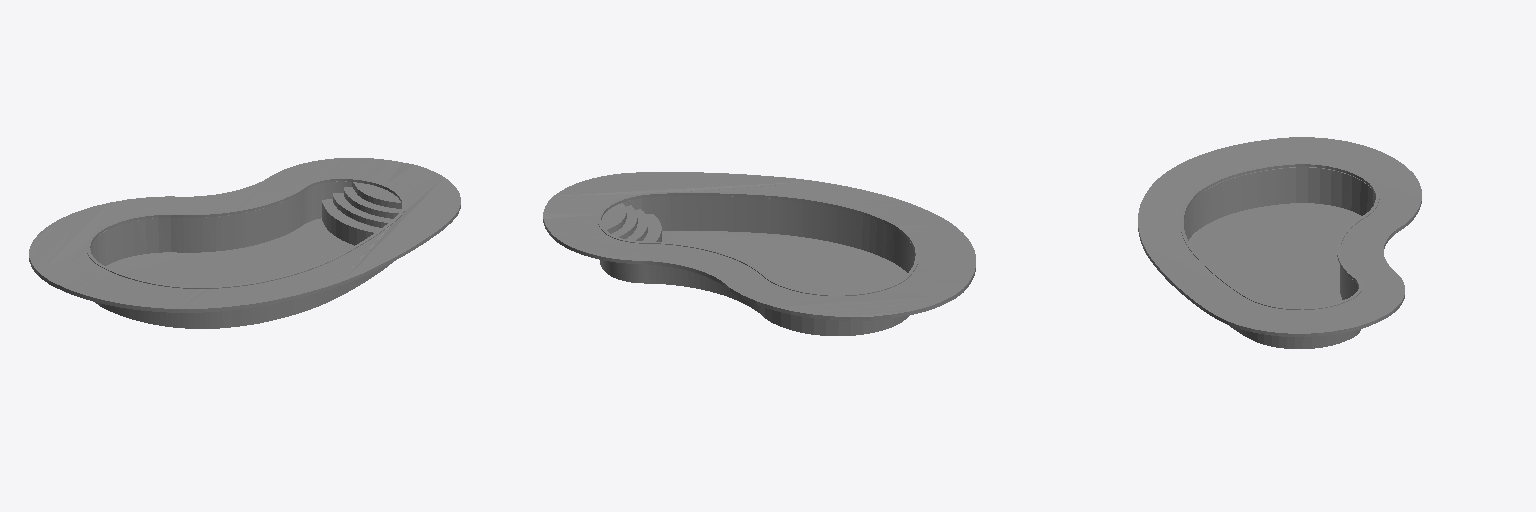
File: pool.obj
3 renders of one model, left to right at view 1: azimuth 30°, elevation 25°; view 2: azimuth 150°, elevation 25°; view 3: azimuth 270°, elevation 25°, orthographic.
Visible parts, largest first — view 1: avika_curved_pool, avika_curved_pool_glass_wall; view 2: avika_curved_pool, avika_curved_pool_glass_wall; view 3: avika_curved_pool, avika_curved_pool_glass_wall.
Part boxes in pixels (x1,y1,x2,y2): avika_curved_pool: (29, 158, 460, 312); avika_curved_pool_glass_wall: (95, 262, 392, 328); avika_curved_pool: (543, 172, 975, 320); avika_curved_pool_glass_wall: (600, 260, 908, 335); avika_curved_pool: (1138, 137, 1421, 336); avika_curved_pool_glass_wall: (1230, 326, 1360, 348).
Bounding box in the file's own units: 20.27 × 2 × 12.39.